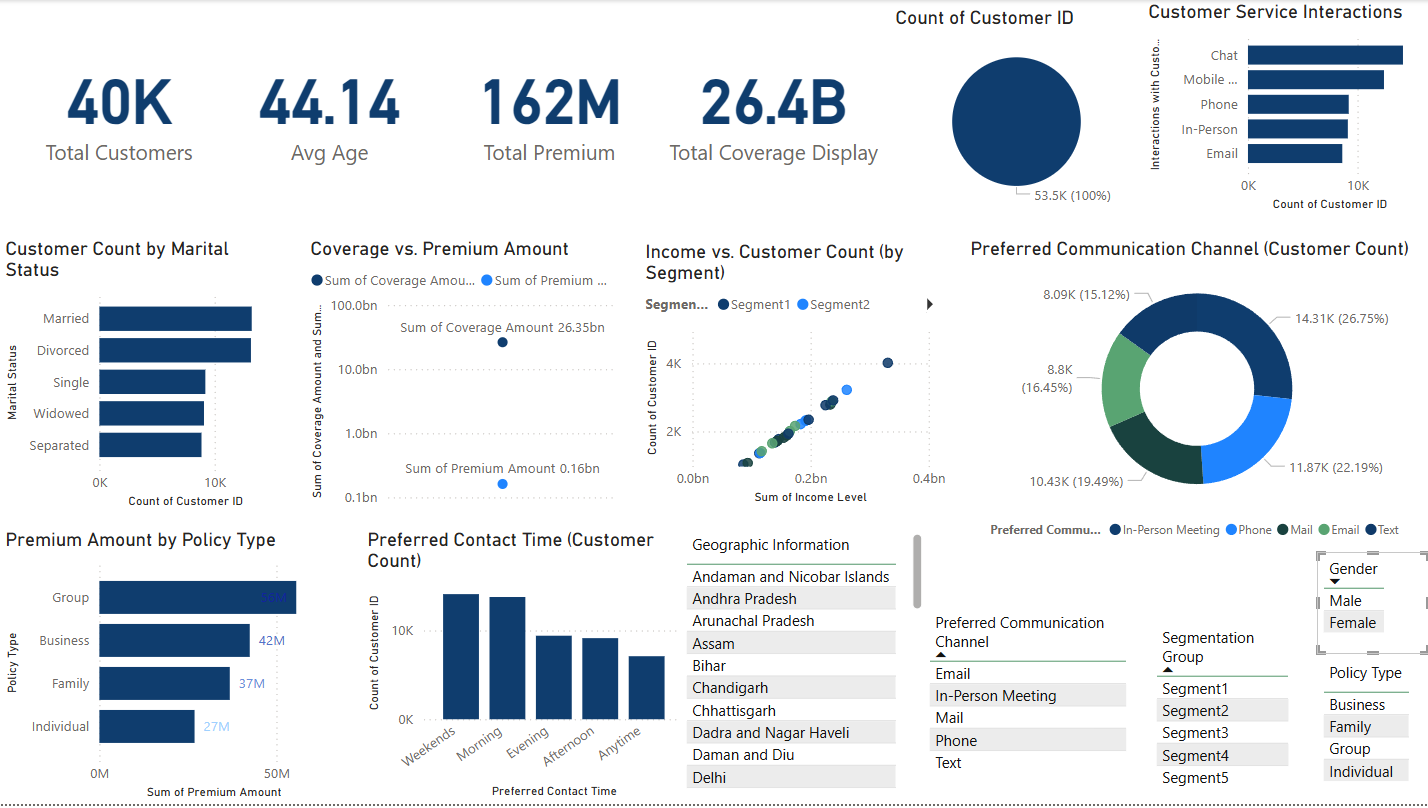

The page's visual inventory and layout, read from the dashboard file:
{"tool":"powerbi","page":{"name":"Page 1","canvas":[1280,720],"ordinal":0},"visuals":[{"type":"card","fields":{"Values":["Customer Segmentation Group.Total Customers"]},"box":[0,0,213.1,193.4],"z":0},{"type":"card","fields":{"Values":["Customer Segmentation Group.Avg Age"]},"box":[199.7,0,190.7,193.4],"z":1000},{"type":"card","fields":{"Values":["Customer Segmentation Group.Total Premium"]},"box":[390.4,0,203.3,193.4],"z":2000},{"type":"card","fields":{"Values":["Customer Segmentation Group.Total Coverage Display"]},"box":[593.7,0,197.9,193.4],"z":3000},{"type":"pieChart","fields":{"Y":["CountNonNull(Customer Segmentation Group.Customer ID)"]},"box":[797,5.4,226.6,188.1],"z":4000},{"type":"tableEx","fields":{"Values":["Customer Segmentation Group.Segmentation Group"]},"box":[1029.9,556.1,138.8,163.9],"z":5000},{"type":"barChart","title":"Customer Count by Marital Status","fields":{"Y":["CountNonNull(Customer Segmentation Group.Customer ID)"],"Category":["Customer Segmentation Group.Marital Status"]},"box":[0,212.2,258.8,247.2],"z":6000},{"type":"tableEx","fields":{"Values":["Customer Segmentation Group.Gender"]},"box":[1179.4,494.3,100.3,91.3],"z":7000},{"type":"lineChart","title":"Coverage vs. Premium Amount","fields":{"Y":["Sum(Customer Segmentation Group.Coverage Amount)","Sum(Customer Segmentation Group.Premium Amount)"]},"box":[273.1,212.2,283.9,247.2],"z":8000},{"type":"barChart","title":"Premium Amount by Policy Type","fields":{"Category":["Customer Segmentation Group.Policy Type"],"Y":["Sum(Customer Segmentation Group.Premium Amount)"]},"box":[0,472.8,311.6,247.2],"z":9000},{"type":"tableEx","fields":{"Values":["Customer Segmentation Group.Policy Type"]},"box":[1179.4,587.5,100.3,132.5],"z":10000},{"type":"scatterChart","title":"Income vs. Customer Count (by Segment)","fields":{"X":["Sum(Customer Segmentation Group.Income Level)"],"Category":["Customer Segmentation Group.Behavioral Data"],"Y":["CountNonNull(Customer Segmentation Group.Customer ID)"],"Series":["Customer Segmentation Group.Segmentation Group"]},"box":[573.1,214.9,278.5,240.9],"z":11000},{"type":"clusteredBarChart","title":"Customer Service Interactions","fields":{"Category":["Customer Segmentation Group.Interactions with Customer Service"],"Y":["CountNonNull(Customer Segmentation Group.Customer ID)"]},"box":[1023.6,0,256.1,193.4],"z":12000},{"type":"donutChart","title":"Preferred Communication Channel (Customer Count)","fields":{"Category":["Customer Segmentation Group.Preferred Communication Channel"],"Y":["CountNonNull(Customer Segmentation Group.Customer ID)"]},"box":[864.2,212.2,415.5,279.4],"z":13000},{"type":"tableEx","fields":{"Values":["Customer Segmentation Group.Preferred Communication Channel"]},"box":[826.6,542.7,197,177.3],"z":14000},{"type":"clusteredColumnChart","title":"Preferred Contact Time (Customer Count)","fields":{"Category":["Customer Segmentation Group.Preferred Contact Time"],"Y":["CountNonNull(Customer Segmentation Group.Customer ID)"]},"box":[324.2,472.8,293.7,246.3],"z":15000},{"type":"tableEx","fields":{"Values":["Customer Segmentation Group.Geographic Information"]},"box":[609,472.8,222.1,241.8],"z":17000}]}

Visuals, with their boxes in screenshot pixels (x1, y1, x2, y2), scaled from the page's 1280x720 canvas onto the 1428x808 screenshot:
card - Customer Segmentation Group.Total Customers: 0, 0, 238, 217
card - Customer Segmentation Group.Avg Age: 223, 0, 436, 217
card - Customer Segmentation Group.Total Premium: 436, 0, 662, 217
card - Customer Segmentation Group.Total Coverage Display: 662, 0, 883, 217
pieChart - CountNonNull(Customer Segmentation Group.Customer ID): 889, 6, 1142, 217
tableEx - Customer Segmentation Group.Segmentation Group: 1149, 624, 1304, 807
"Customer Count by Marital Status" barChart: 0, 238, 289, 516
tableEx - Customer Segmentation Group.Gender: 1316, 555, 1427, 657
"Coverage vs. Premium Amount" lineChart: 305, 238, 621, 516
"Premium Amount by Policy Type" barChart: 0, 531, 348, 807
tableEx - Customer Segmentation Group.Policy Type: 1316, 659, 1427, 807
"Income vs. Customer Count (by Segment)" scatterChart: 639, 241, 950, 512
"Customer Service Interactions" clusteredBarChart: 1142, 0, 1427, 217
"Preferred Communication Channel (Customer Count)" donutChart: 964, 238, 1427, 552
tableEx - Customer Segmentation Group.Preferred Communication Channel: 922, 609, 1142, 807
"Preferred Contact Time (Customer Count)" clusteredColumnChart: 362, 531, 689, 807
tableEx - Customer Segmentation Group.Geographic Information: 679, 531, 927, 802
